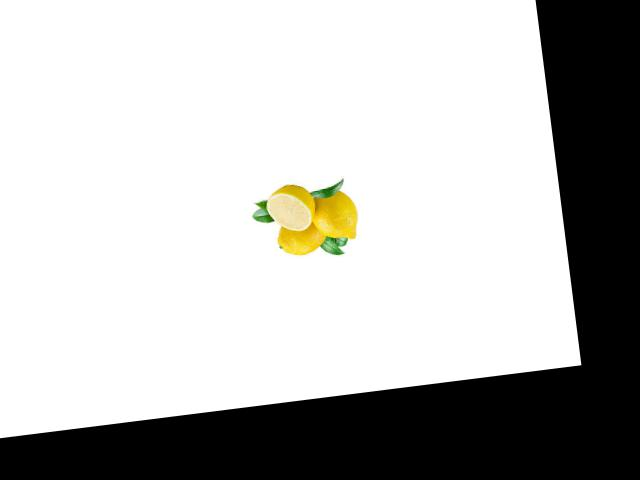lemon: (306, 181, 364, 250)
